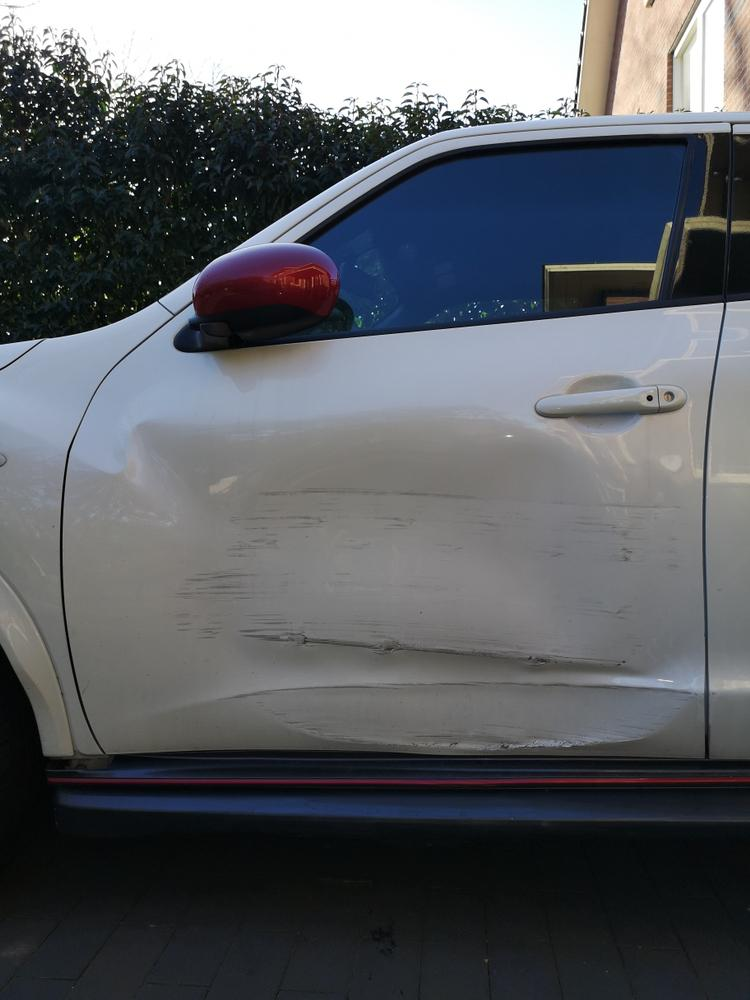dent: (122, 413, 694, 746)
